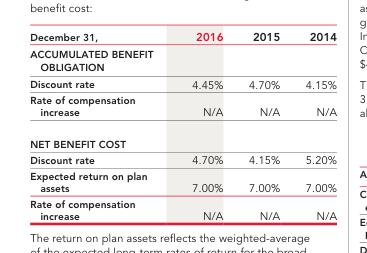table: (29, 29, 336, 222)
table column: (29, 29, 168, 222), (168, 29, 235, 222), (235, 29, 292, 222), (292, 29, 336, 222)
table column header: (29, 29, 336, 45)
table projected row header: (29, 45, 336, 74), (29, 128, 336, 151)
table row: (29, 92, 336, 128), (29, 45, 336, 74), (29, 167, 336, 195), (29, 195, 336, 222), (29, 128, 336, 151), (29, 74, 336, 92), (29, 29, 336, 45), (29, 151, 336, 167)
